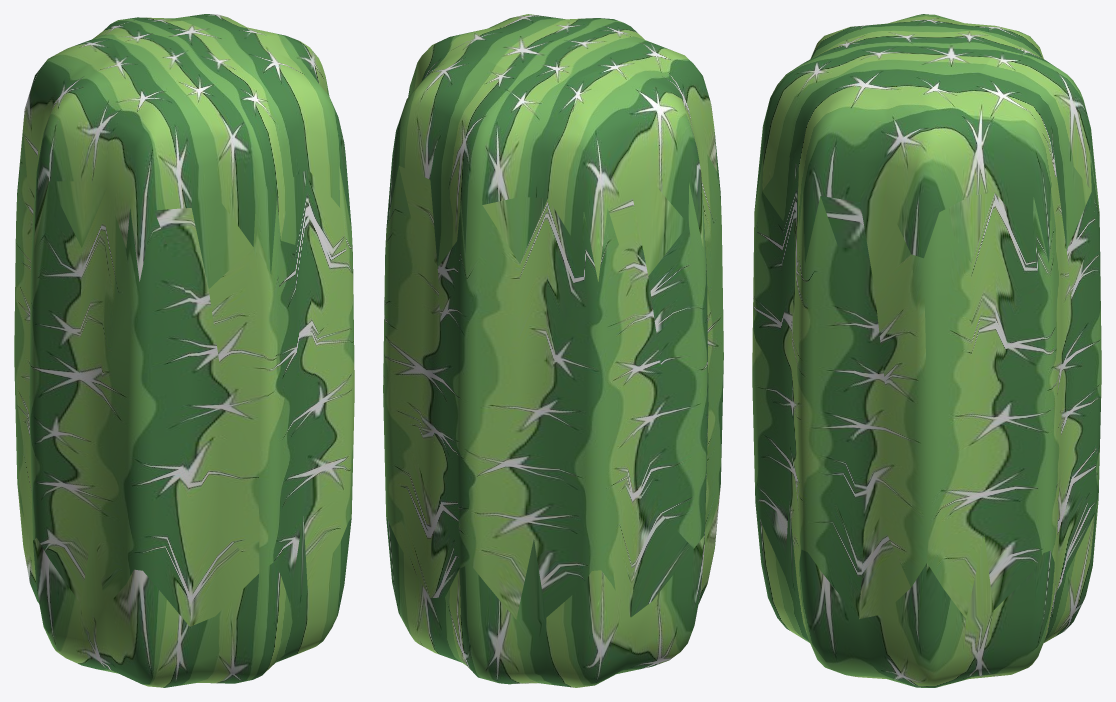
The model's file is small-cactus.glb.
3 renders of one model, left to right at view 1: azimuth 30°, elevation 25°; view 2: azimuth 150°, elevation 25°; view 3: azimuth 270°, elevation 25°, orthographic.
Visible parts, largest first — view 1: Trunk_4; view 2: Trunk_4; view 3: Trunk_4.
Part boxes in pixels (x1,y1,x2,y2): Trunk_4: (14, 14, 354, 687); Trunk_4: (383, 14, 723, 687); Trunk_4: (752, 14, 1101, 687).
Bounding box in the file's own units: 1.04 × 2 × 1.03.
1 material, 1 textured.
